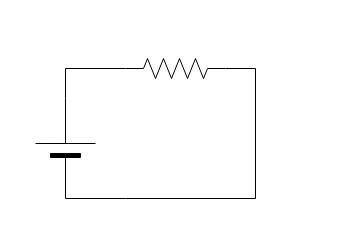resistor: (129, 47, 224, 89)
